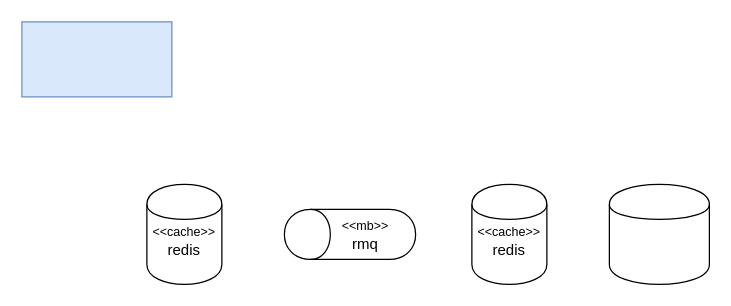
The diagram is 731 pixels wide and 306 high, and some of its shapes have lost their labels. Each missing label, with the box of its shape:
<<rdbms>> mysql: (608, 183, 709, 284)
<<services>> go-dom-parser: (21, 21, 172, 97)
